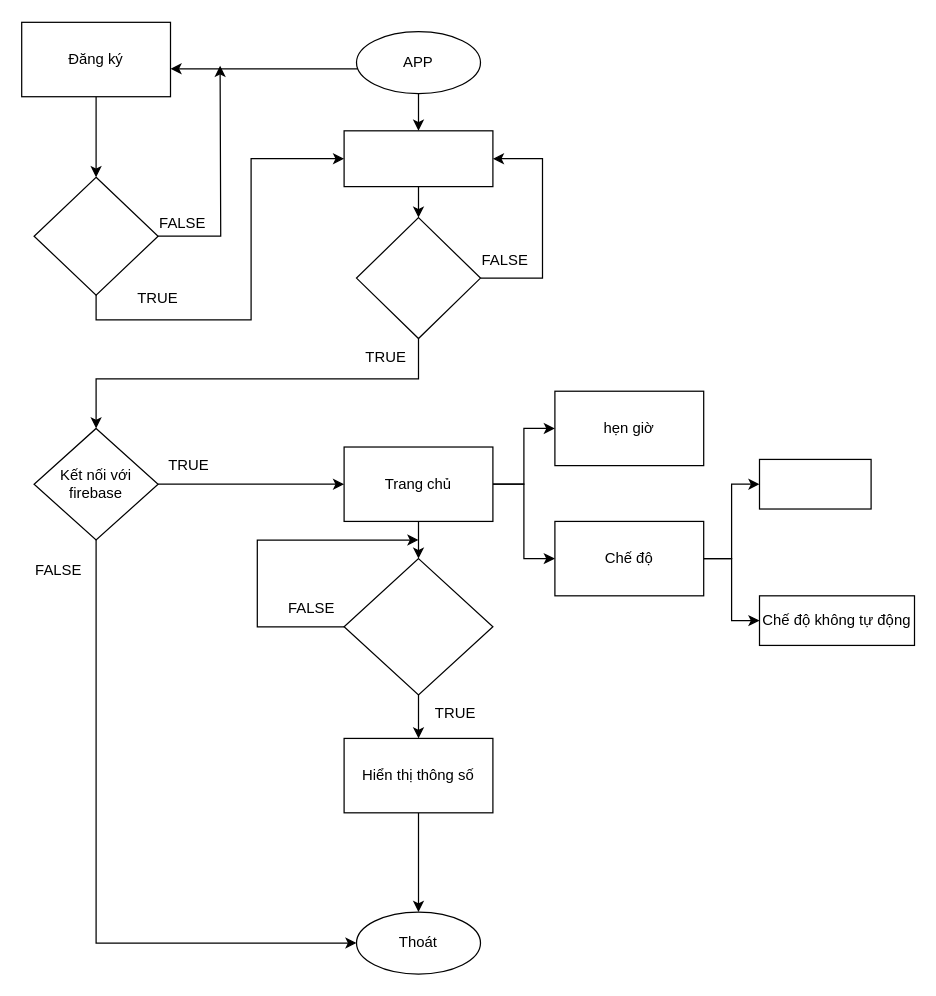
This 936x996 diagram has some shape labels left out. The shapes that lost their labels are listed below. From the top down, each one's centre as x and y in pixels, then its label:
At pixel 418 158: "Đăng nhập".
At pixel 95 235: "Đăng ký thành công".
At pixel 417 277: "Đăng nhập thành công".
At pixel 814 483: "Chế độ tự động".
At pixel 418 626: "Lấy dữ liệu từ fire base".
